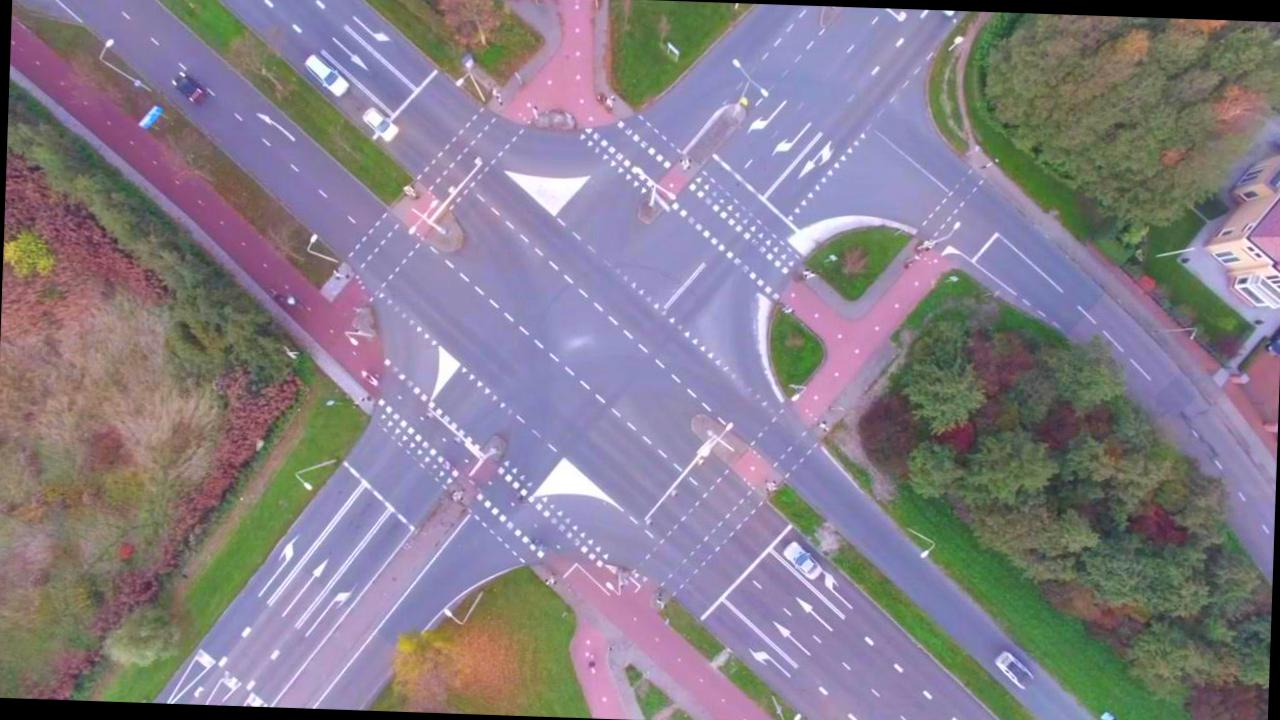vehicle: (299, 50, 352, 101), (992, 646, 1038, 694), (782, 538, 825, 582), (362, 104, 401, 144), (168, 70, 208, 108)
